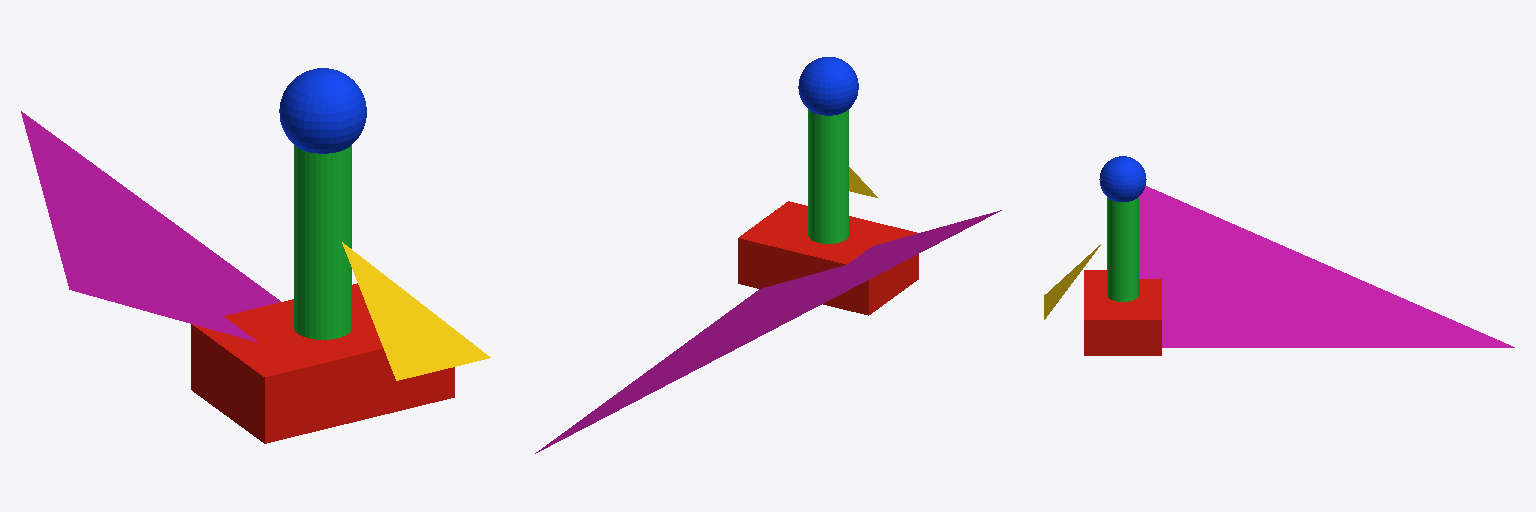
robot.urdf — original_fixture_robot:
<?xml version="1.0"?>
<robot name="original_fixture_robot">
  <material name="red"><color rgba="0.9 0.15 0.1 1"/></material>
  <material name="green"><color rgba="0.15 0.8 0.25 1"/></material>
  <material name="magenta"><color rgba="0.8 0.15 0.7 1"/></material>
  <link name="base">
    <visual><origin xyz="0 0 0.1"/><geometry><box size="0.6 0.4 0.2"/></geometry><material name="red"/></visual>
    <visual><geometry><sphere radius="0.05"/></geometry><material><color rgba="1 1 1 0"/></material></visual>
  </link>
  <link name="arm">
    <visual><origin xyz="0 0 0.3"/><geometry><cylinder radius="0.08" length="0.6"/></geometry><material name="green"/></visual>
  </link>
  <link name="tip">
    <visual><origin xyz="0 0 0.05"/><geometry><sphere radius="0.12"/></geometry><material><color rgba="0.1 0.3 0.95 1"/></material></visual>
  </link>
  <link name="ascii_mesh">
    <visual><origin xyz="0.2 0 0" rpy="0 0 1.5707963267948966"/><geometry><mesh filename="meshes/wedge-ascii.stl" scale="2 1 0.5"/></geometry><material name="magenta"/></visual>
  </link>
  <link name="binary_mesh">
    <visual><origin xyz="0 -0.4 0.2"/><geometry><mesh filename="package://fixture_robot/meshes/wedge-binary.stl" scale="0.3 0.3 0.3"/></geometry><material><color rgba="0.95 0.8 0.1 1"/></material></visual>
  </link>
  <joint name="shoulder" type="revolute"><parent link="base"/><child link="arm"/><origin xyz="0 0 0.2"/><axis xyz="0 1 0"/><limit lower="-1.5" upper="1.5" effort="1" velocity="1"/></joint>
  <joint name="tool" type="fixed"><parent link="arm"/><child link="tip"/><origin xyz="0 0 0.6"/></joint>
  <joint name="ascii_mount" type="fixed"><parent link="base"/><child link="ascii_mesh"/></joint>
  <joint name="binary_mount" type="fixed"><parent link="base"/><child link="binary_mesh"/></joint>
</robot>

--- Facts derived from the render (not from the file) ---
Views: 3 orthographic renders of the robot side by side, from view 1: azimuth 30°, elevation 25°; view 2: azimuth 150°, elevation 25°; view 3: azimuth 270°, elevation 25°.
Robot: original_fixture_robot — 5 links, 4 joints (1 revolute, 3 fixed); root link base; default pose: all joints at 0.
Links seen in each view (by area): view 1: ascii_mesh, base, arm, binary_mesh, tip; view 2: ascii_mesh, base, arm, tip; view 3: ascii_mesh, base, arm, tip, binary_mesh.
Link boxes in pixels (x1,y1,x2,y2): ascii_mesh: [21, 111, 280, 342]; base: [191, 283, 454, 443]; arm: [294, 145, 351, 339]; binary_mesh: [342, 242, 490, 380]; tip: [279, 68, 366, 153]; ascii_mesh: [535, 210, 1001, 453]; base: [738, 201, 918, 315]; arm: [808, 109, 848, 243]; tip: [798, 57, 858, 115]; ascii_mesh: [1139, 186, 1514, 347]; base: [1084, 270, 1161, 355]; arm: [1107, 197, 1138, 301]; tip: [1099, 156, 1146, 201]; binary_mesh: [1044, 245, 1100, 319].
Bounding box of the posed robot: 1.1 × 2.4 × 1.02 m (x, y, z).
2 mesh visuals loaded from 2 distinct referenced files (1 binary STL, 1 ASCII STL).
